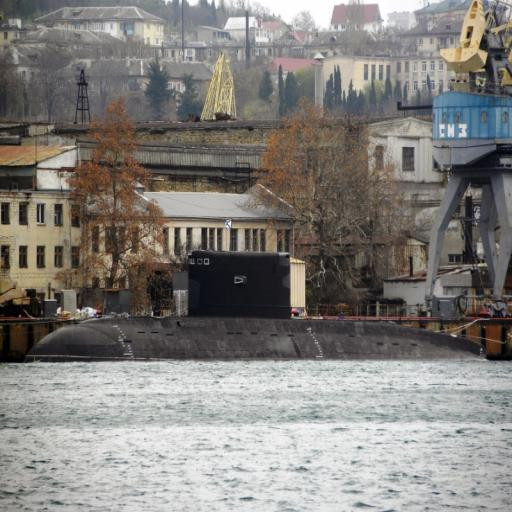submarine: (25, 256, 490, 363)
